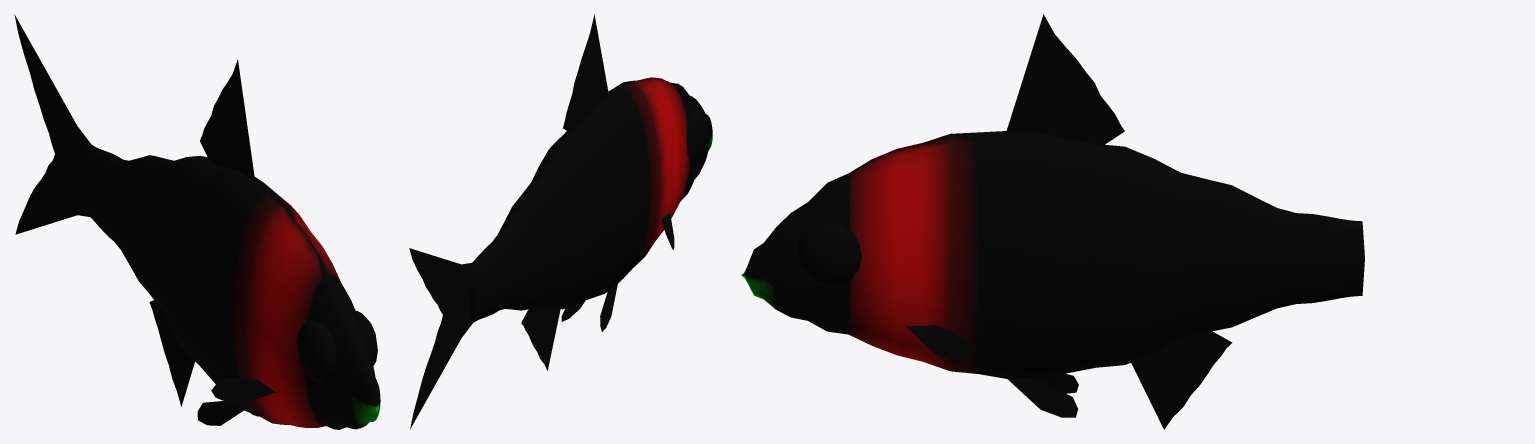
The model's file is tiger-barb.glb.
3 views of the same model, side by side, from view 1: azimuth 30°, elevation 25°; view 2: azimuth 150°, elevation 25°; view 3: azimuth 270°, elevation 25° (orthographic). The views are drawn at different scales.
Visible parts, largest first — view 1: tigerbarb_body, tigerbarb_caudal, tigerbarb_dorsal, tigerbarb_eyeL, tigerbarb_anal, tigerbarb_pectoralL, tigerbarb_pelvicL, tigerbarb_eyeR; view 2: tigerbarb_body, tigerbarb_caudal, tigerbarb_dorsal, tigerbarb_anal, tigerbarb_eyeL, tigerbarb_pelvicL; view 3: tigerbarb_body, tigerbarb_dorsal, tigerbarb_anal, tigerbarb_eyeR, tigerbarb_pelvicR, tigerbarb_pectoralR.
Boxes of the visible parts, x1=… form: tigerbarb_body: x1=77, y1=144, x2=380, y2=429; tigerbarb_caudal: x1=14, y1=14, x2=91, y2=234; tigerbarb_dorsal: x1=200, y1=59, x2=255, y2=181; tigerbarb_eyeL: x1=296, y1=320, x2=336, y2=383; tigerbarb_anal: x1=149, y1=300, x2=194, y2=406; tigerbarb_pectoralL: x1=211, y1=377, x2=275, y2=403; tigerbarb_pelvicL: x1=197, y1=401, x2=244, y2=425; tigerbarb_eyeR: x1=355, y1=311, x2=377, y2=365; tigerbarb_body: x1=469, y1=77, x2=712, y2=323; tigerbarb_caudal: x1=409, y1=248, x2=472, y2=429; tigerbarb_dorsal: x1=563, y1=14, x2=608, y2=132; tigerbarb_anal: x1=521, y1=305, x2=560, y2=370; tigerbarb_eyeL: x1=686, y1=109, x2=710, y2=161; tigerbarb_pelvicL: x1=600, y1=284, x2=617, y2=331; tigerbarb_body: x1=741, y1=131, x2=1364, y2=378; tigerbarb_dorsal: x1=1006, y1=14, x2=1124, y2=145; tigerbarb_anal: x1=1131, y1=331, x2=1232, y2=429; tigerbarb_eyeR: x1=796, y1=222, x2=861, y2=285; tigerbarb_pelvicR: x1=1006, y1=377, x2=1077, y2=417; tigerbarb_pectoralR: x1=906, y1=325, x2=972, y2=362.
Bounding box in the file's own units: 0.2388 × 0.7389 × 1.25.
